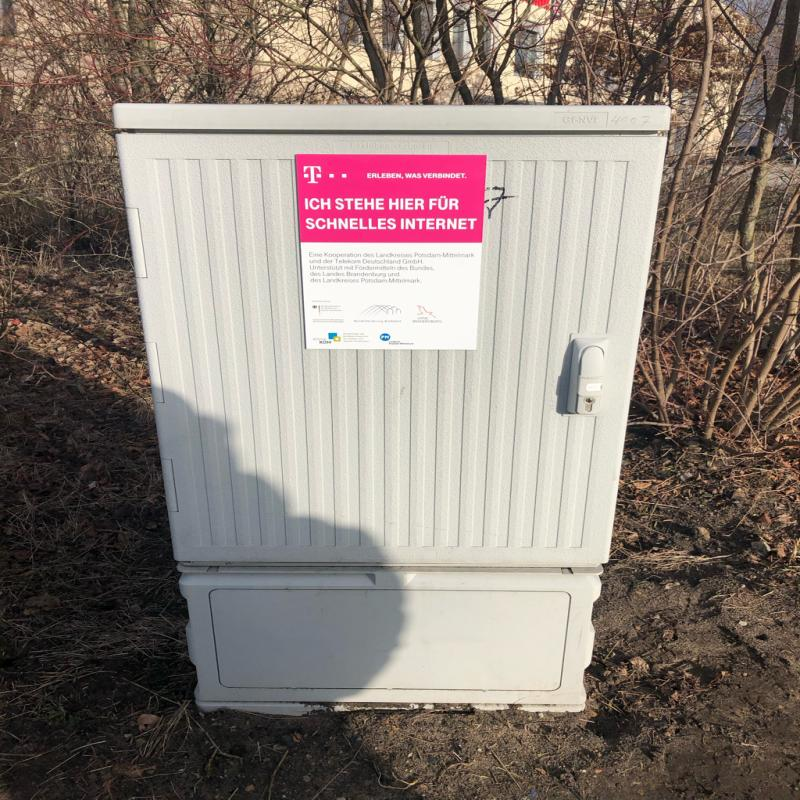NT-Gehause: (111, 101, 669, 712)
Steaker: (297, 155, 494, 353)
